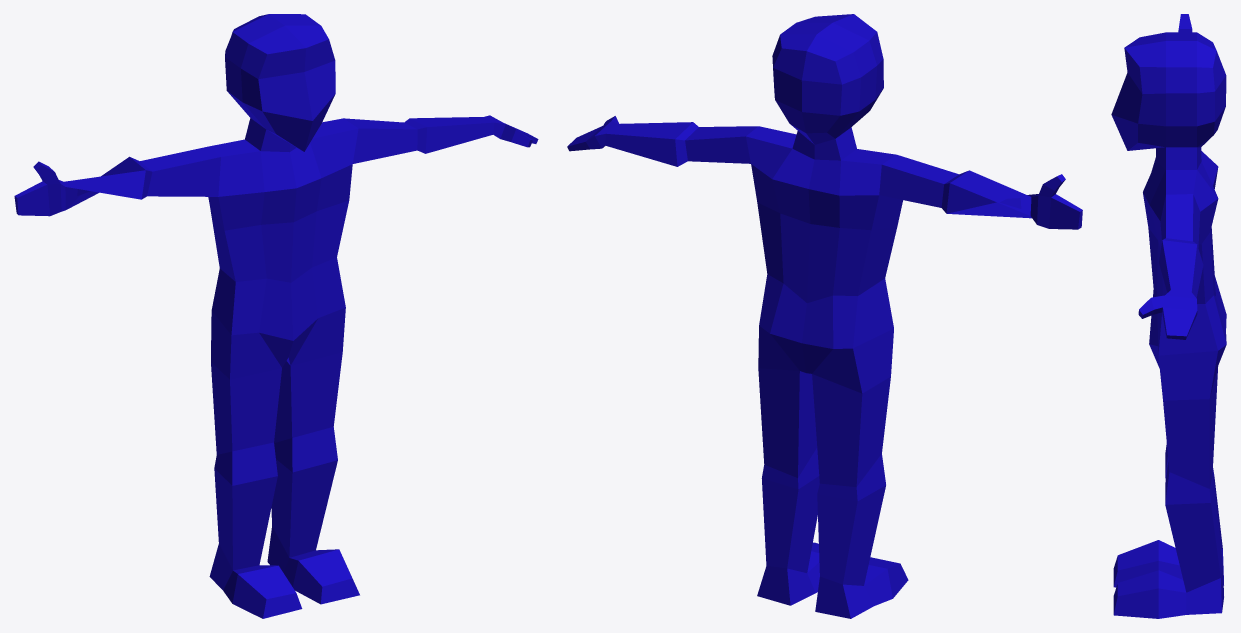
The model's file is wizard.obj.
3 renders of one model, left to right at view 1: azimuth 30°, elevation 25°; view 2: azimuth 150°, elevation 25°; view 3: azimuth 270°, elevation 25°, orthographic. The views are drawn at different scales.
Visible parts, largest first — view 1: Cube; view 2: Cube; view 3: Cube.
Boxes of the visible parts, x1,y1,x2,y2 form: Cube: (14, 14, 538, 618); Cube: (567, 14, 1082, 618); Cube: (1111, 14, 1226, 618).
Size of the model in its own units: 11.55 by 12.1 by 2.29.
